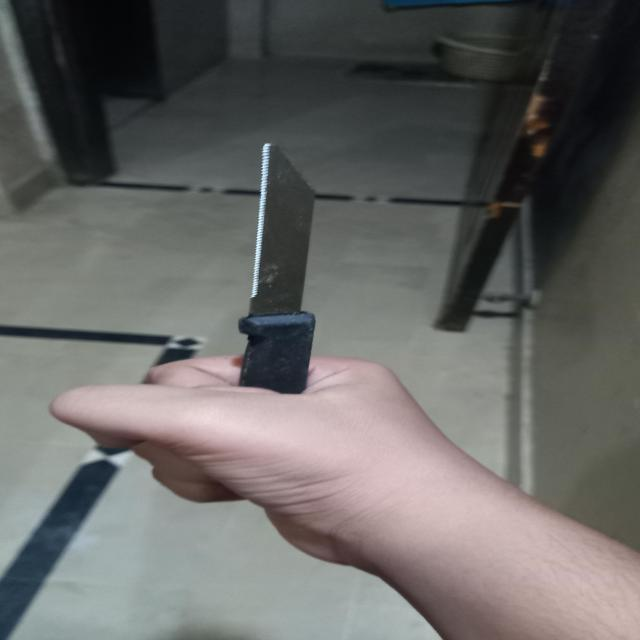Knife: (239, 140, 315, 390)
Person: (57, 355, 640, 640)
